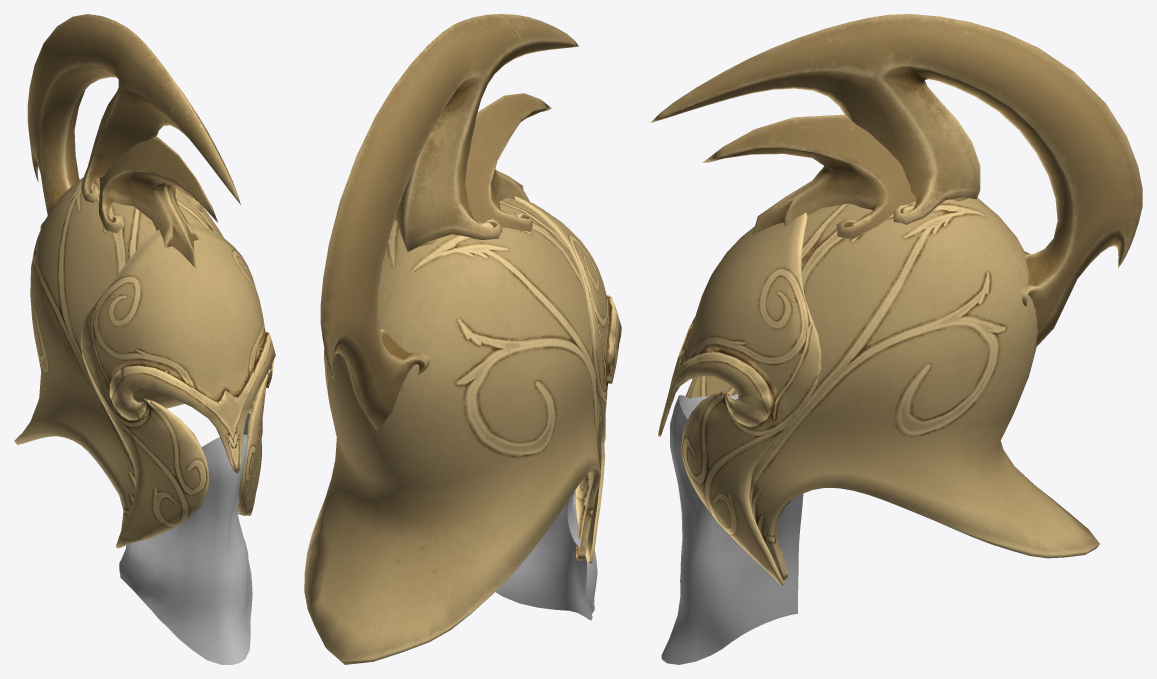
The model's file is rivendell_helmet_elite.fbx.
The picture shows the model from 3 angles, left to right: view 1: azimuth 30°, elevation 25°; view 2: azimuth 150°, elevation 25°; view 3: azimuth 270°, elevation 25°; orthographic projection. The views are drawn at different scales.
Parts seen in each view (by area): view 1: rivendell_helmet_elite.1, rivendell_helmet_elite.0, rivendell_helmet_elite.2; view 2: rivendell_helmet_elite.1, rivendell_helmet_elite.0, rivendell_helmet_elite.2; view 3: rivendell_helmet_elite.1, rivendell_helmet_elite.0, rivendell_helmet_elite.2.
Boxes of the visible parts, <box> form: rivendell_helmet_elite.1: <box>14,177,275,548</box>; rivendell_helmet_elite.0: <box>27,14,240,269</box>; rivendell_helmet_elite.2: <box>119,413,252,664</box>; rivendell_helmet_elite.1: <box>304,196,621,664</box>; rivendell_helmet_elite.0: <box>320,14,578,429</box>; rivendell_helmet_elite.2: <box>495,413,599,620</box>; rivendell_helmet_elite.1: <box>658,198,1099,585</box>; rivendell_helmet_elite.0: <box>651,14,1142,346</box>; rivendell_helmet_elite.2: <box>661,394,803,664</box>.
Size of the model in its own units: 0.1912 by 0.3902 by 0.5621.
